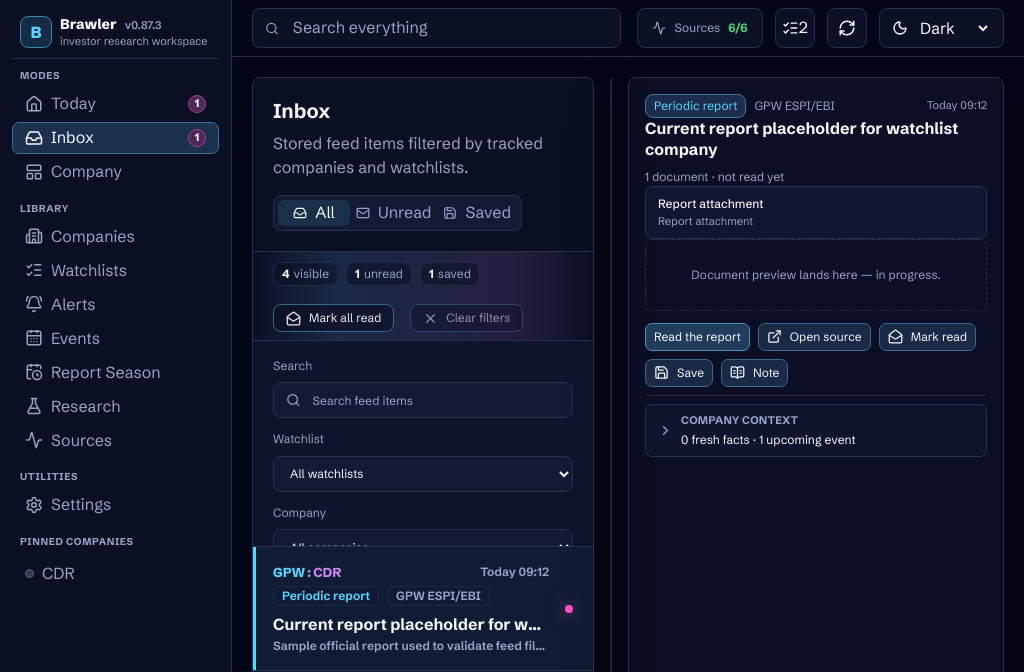
Test: Inbox screen workflows › filters inbox sample items by status
This screenshot has width=1024, height=672.
Click the button "Unread": (394, 213) [350,200,437,226]
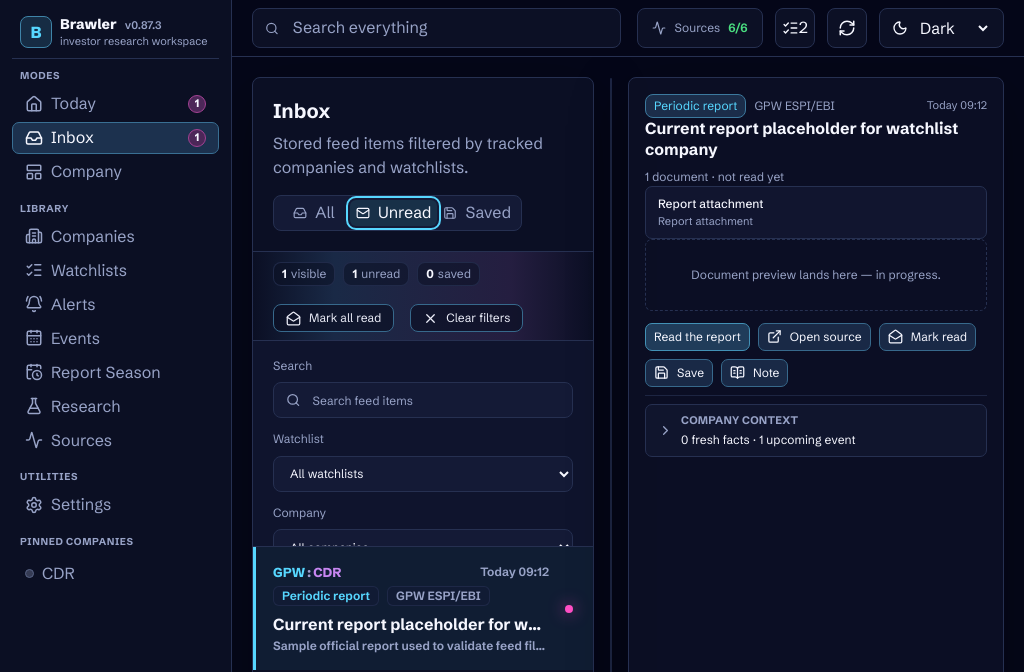
Check: the 2nd heading "Current report placeholder for watchlist company" is shown, box [273,614,549,634]
Click the button "Saved": (477, 213) [437,200,517,226]
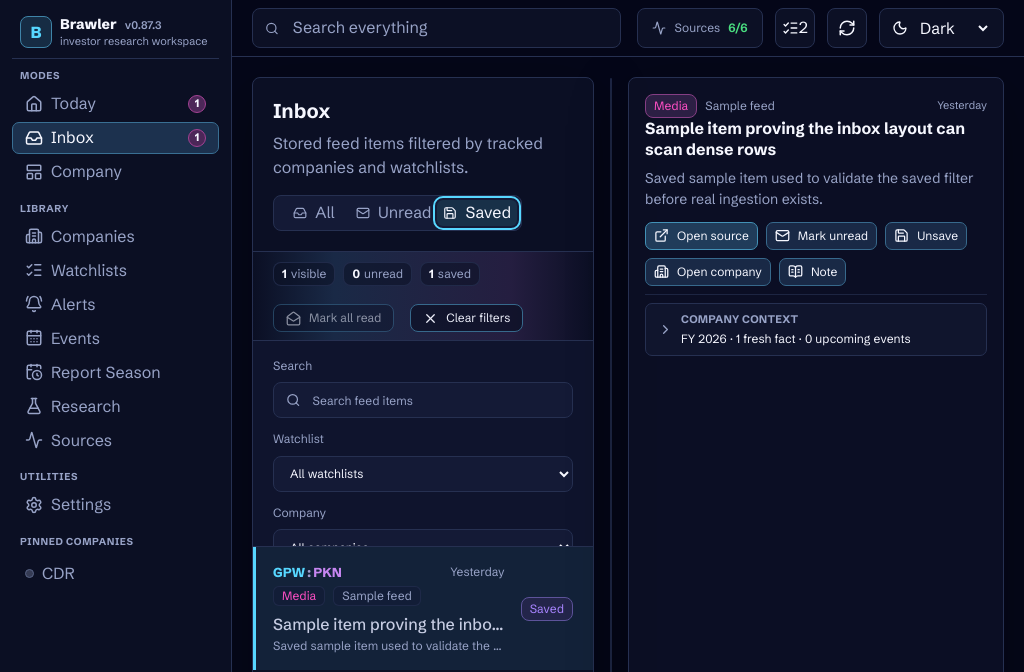
Check: the button "Current report placeholder for watchlist company" is gone
Check: the 2nd heading "Sample item proving the inbox layout can scan dense rows" is shown, box [273,614,505,634]
